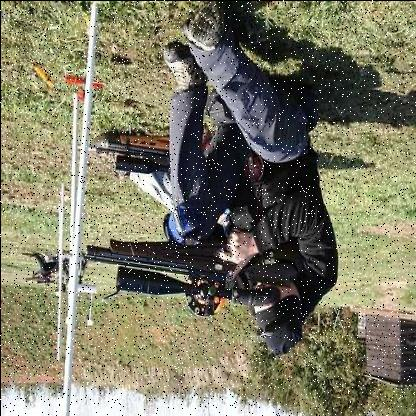rifle: (64, 194, 307, 331)
